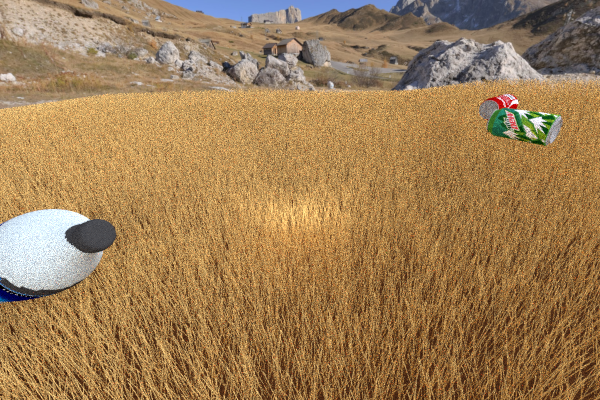Plastic Bottle: (0, 209, 116, 306), (486, 107, 562, 145), (478, 93, 518, 120)
